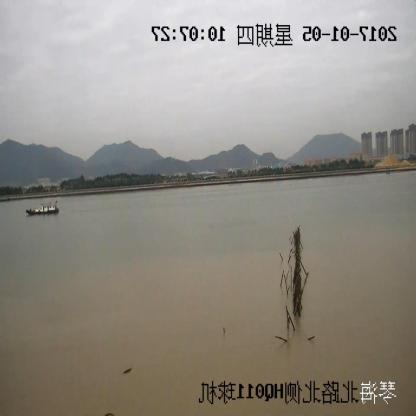Fishing Boat: (26, 201, 59, 216)
